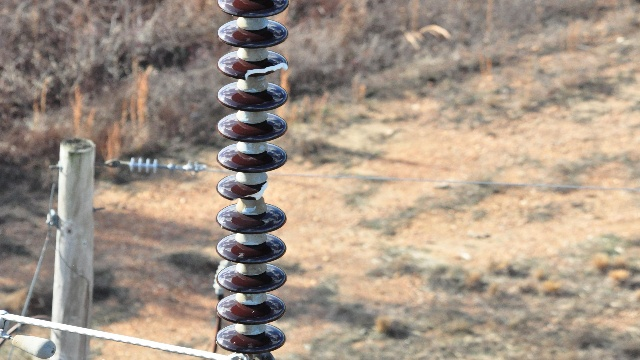broken_local: (227, 181, 270, 203), (242, 61, 287, 79)
insulator_unspecified: (213, 0, 290, 354)
